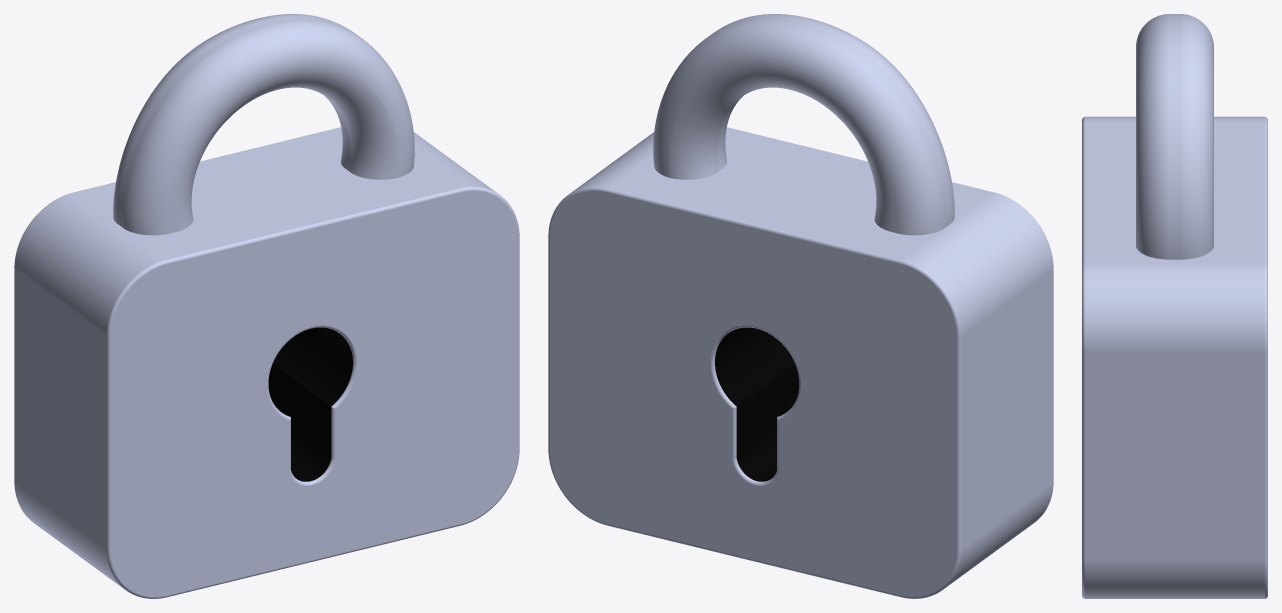
Rendered from lock.fbx.
3 views of the same model, side by side, from view 1: azimuth 30°, elevation 25°; view 2: azimuth 150°, elevation 25°; view 3: azimuth 270°, elevation 25° (orthographic). The views are drawn at different scales.
Visible parts, largest first — view 1: Part1 (×2); view 2: Part1 (×2); view 3: Part1.
Part boxes in pixels (x1,y1,x2,y2): Part1 (×2): (14, 14, 519, 598); Part1 (×2): (548, 14, 1053, 598); Part1: (1082, 14, 1267, 598).
Size of the model in its own units: 138 by 161 by 55.
